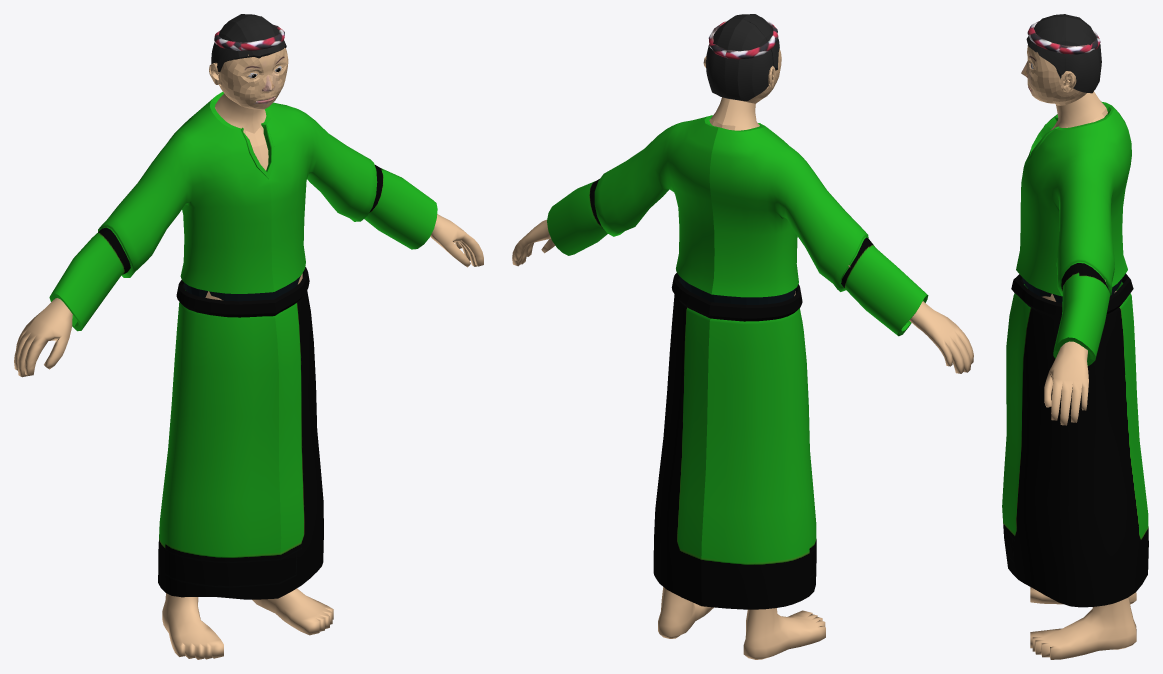
The model's file is green.fbx.
The picture shows the model from 3 angles, left to right: view 1: azimuth 30°, elevation 25°; view 2: azimuth 150°, elevation 25°; view 3: azimuth 270°, elevation 25°; orthographic projection.
Visible parts, largest first — view 1: polySurface5, _ear_v1:_ear_v5, pSphere8, pTorus3; view 2: polySurface5, _ear_v1:_ear_v5, pSphere9, pTorus3; view 3: polySurface5, _ear_v1:_ear_v5, pSphere9, pSphere8, pTorus3.
Part boxes in pixels (x1,y1,x2,y2): polySurface5: (49,91,437,599); _ear_v1:_ear_v5: (14,48,483,659); pSphere8: (217,16,286,71); pTorus3: (214,24,284,50); polySurface5: (547,115,928,609); _ear_v1:_ear_v5: (512,49,973,659); pSphere9: (706,18,773,100); pTorus3: (708,20,778,59); polySurface5: (1002,101,1148,607); _ear_v1:_ear_v5: (1021,45,1136,659); pSphere9: (1065,14,1101,93); pSphere8: (1026,14,1065,78); pTorus3: (1027,21,1100,54).
Size of the model in its own units: 23.04 by 29.65 by 6.49.
Materials: 1 (1 with a texture image).
